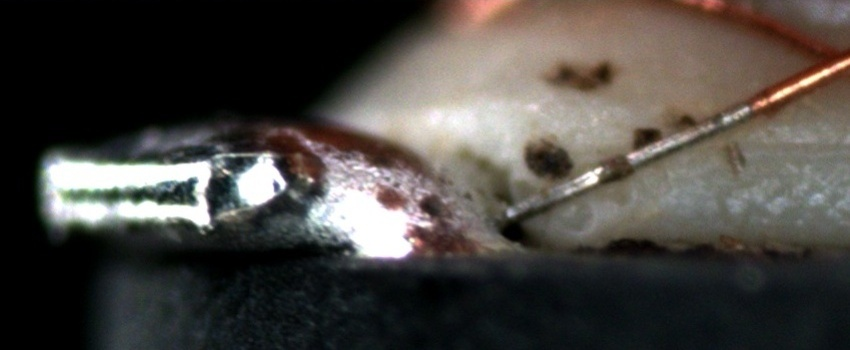CL: (796, 29, 848, 87)
DL: (728, 116, 849, 180)
TS: (505, 102, 753, 219)
